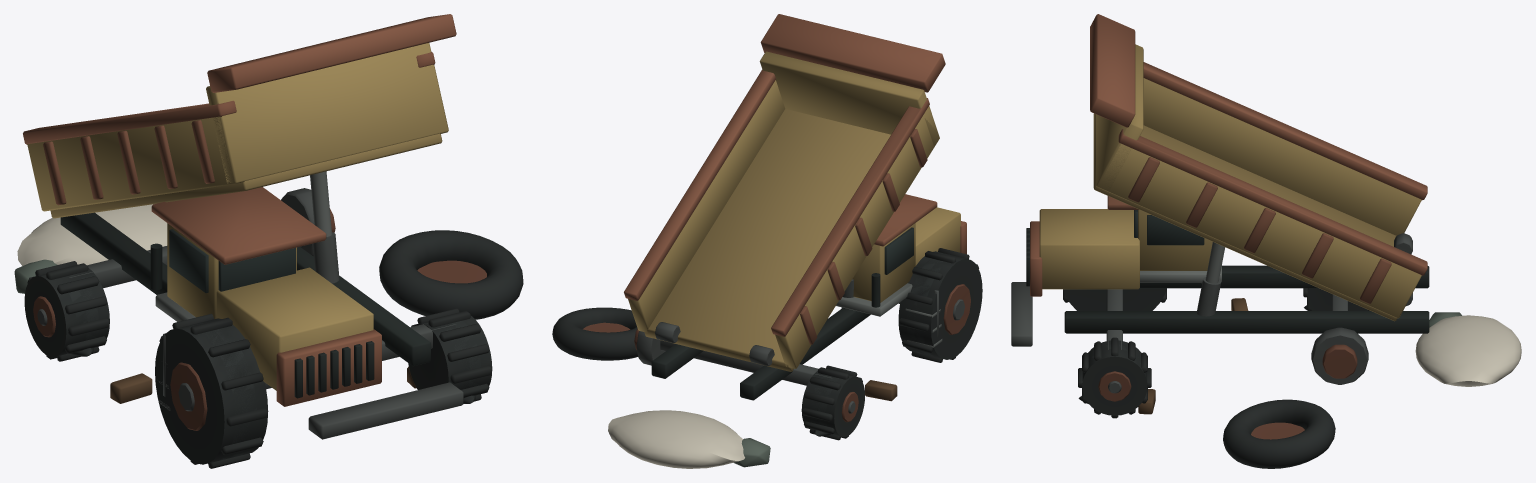
File: haul_truck_b.glb
3 renders of one model, left to right at view 1: azimuth 30°, elevation 25°; view 2: azimuth 150°, elevation 25°; view 3: azimuth 270°, elevation 25°, orthographic. The views are drawn at different scales.
Parts seen in each view (by area): view 1: Surface; view 2: Surface; view 3: Surface.
Boxes of the visible parts, left/top/right/bottom form: Surface: left=14, top=14, right=523, bottom=468; Surface: left=552, top=14, right=982, bottom=468; Surface: left=1011, top=14, right=1521, bottom=468.
Bounding box in the file's own units: 10.95 × 9.65 × 14.28.
